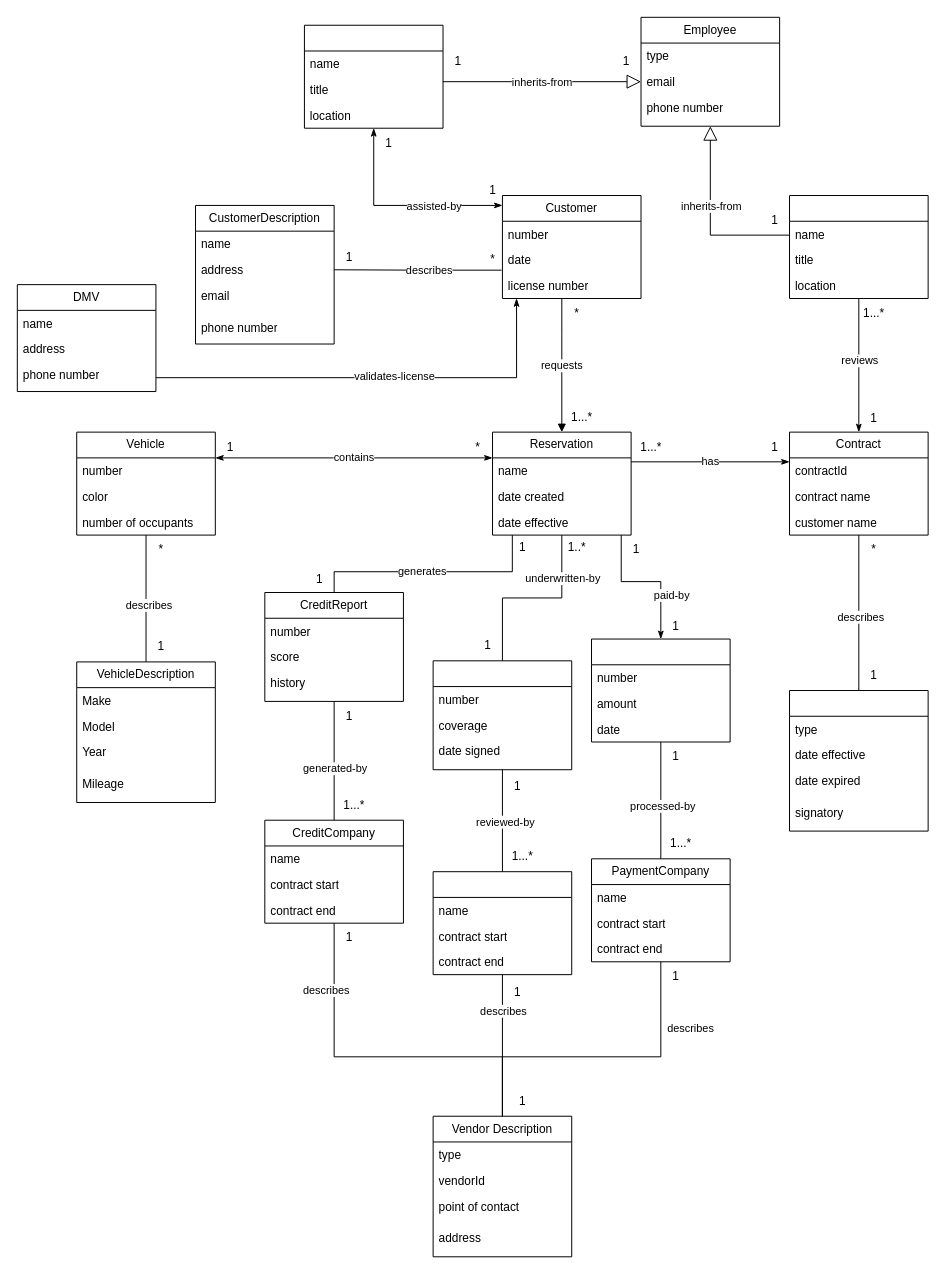
Some shapes in this 945 by 1277 pixel diagram are drawn without their labels. The box of each missing label's shape, as (x1, y1, x2, y2) in pixels:
ContractDetails: (789, 690, 928, 831)
CustomerCareRep: (303, 24, 443, 128)
InsuranceCompany: (432, 871, 572, 975)
InsurancePolicy: (432, 660, 572, 770)
Invoice: (591, 638, 730, 742)
Lawyer: (789, 195, 928, 298)
